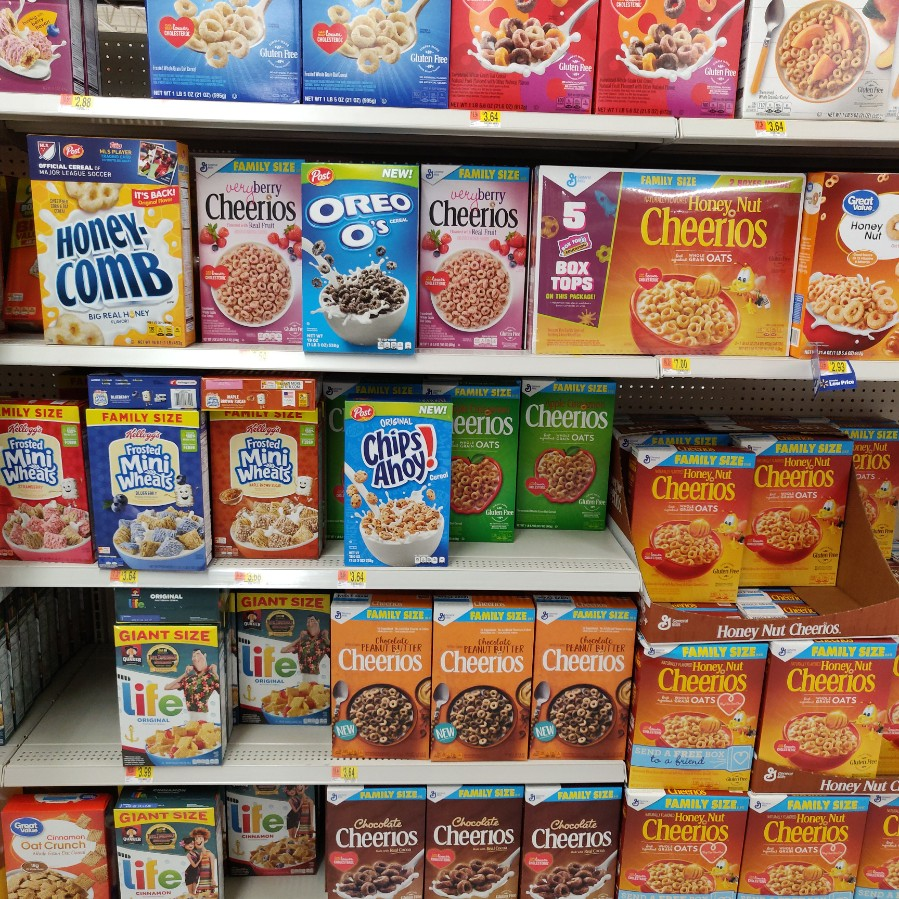Chips Ahoys-565717529: (341, 400, 450, 568)
Honey Comb- 009288857: (16, 133, 191, 344)
Oreo-563424384: (297, 162, 422, 350)
